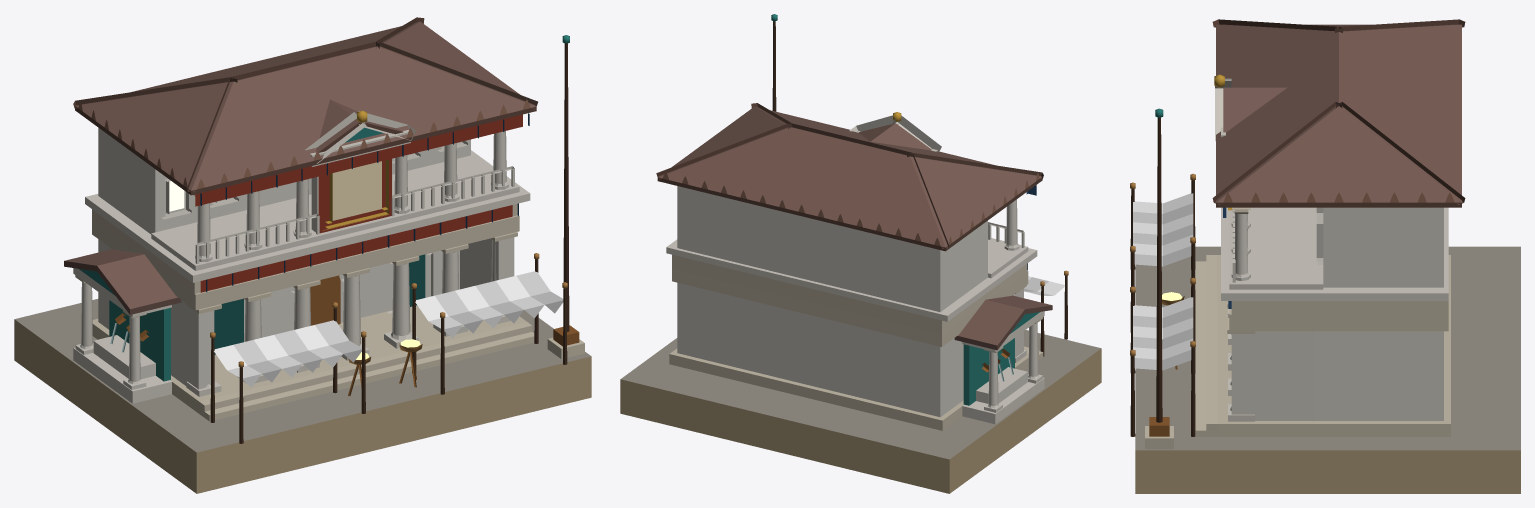
The model's file is harbour-office-hyperliquid-l1.glb.
The picture shows the model from 3 angles, left to right: view 1: azimuth 30°, elevation 25°; view 2: azimuth 150°, elevation 25°; view 3: azimuth 270°, elevation 25°; orthographic projection. The views are drawn at different scales.
Visible parts, largest first — view 1: office_body, awning, crest_panel; view 2: office_body; view 3: office_body, awning.
Part boxes in pixels (bbox=[...]): office_body: bbox=[14, 17, 591, 493]; awning: bbox=[214, 271, 563, 387]; crest_panel: bbox=[332, 161, 381, 220]; office_body: bbox=[620, 14, 1101, 493]; office_body: bbox=[1130, 19, 1520, 493]; awning: bbox=[1133, 193, 1193, 370].
Bounding box in the file's own units: 20.2 × 17.32 × 16.22.
